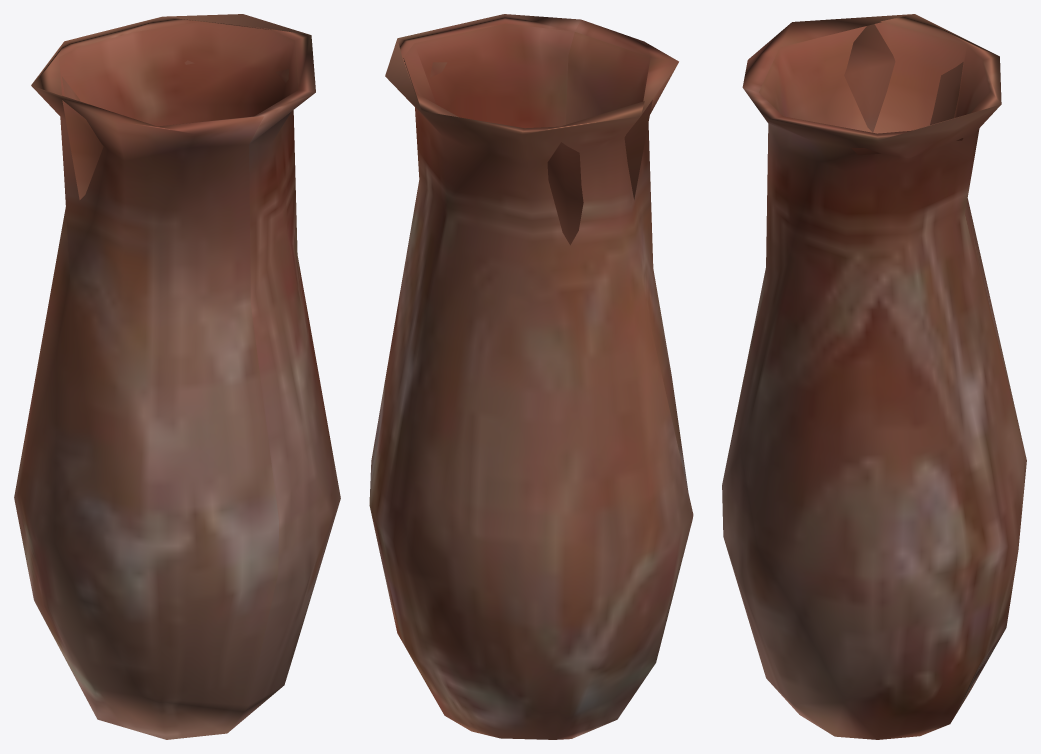
The model's file is ancient-vase.lod1.glb.
3 views of the same model, side by side, from view 1: azimuth 30°, elevation 25°; view 2: azimuth 150°, elevation 25°; view 3: azimuth 270°, elevation 25° (orthographic).
Visible parts, largest first — view 1: Object_2; view 2: Object_2; view 3: Object_2.
Part boxes in pixels (left/top/right/bottom): Object_2: left=14, top=14, right=340, bottom=739; Object_2: left=369, top=14, right=693, bottom=739; Object_2: left=722, top=14, right=1026, bottom=739.
Bounding box in the file's own units: 0.3713 × 0.7948 × 0.3446.
1 material, 1 textured.
